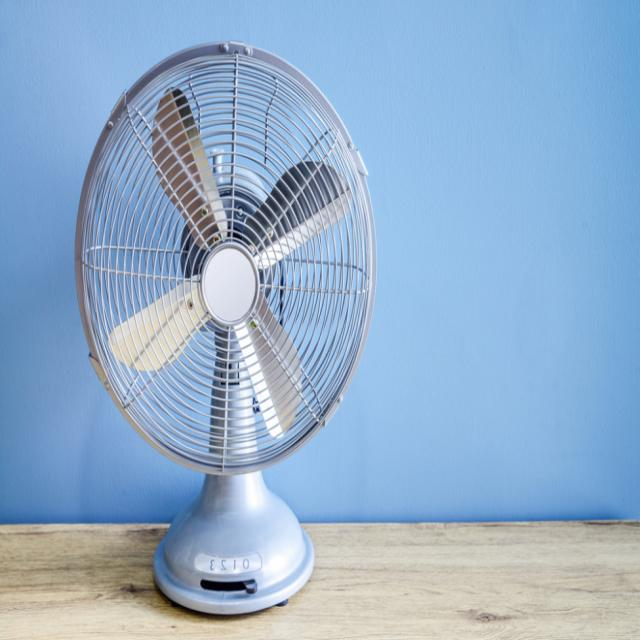fan: (72, 39, 378, 624)
